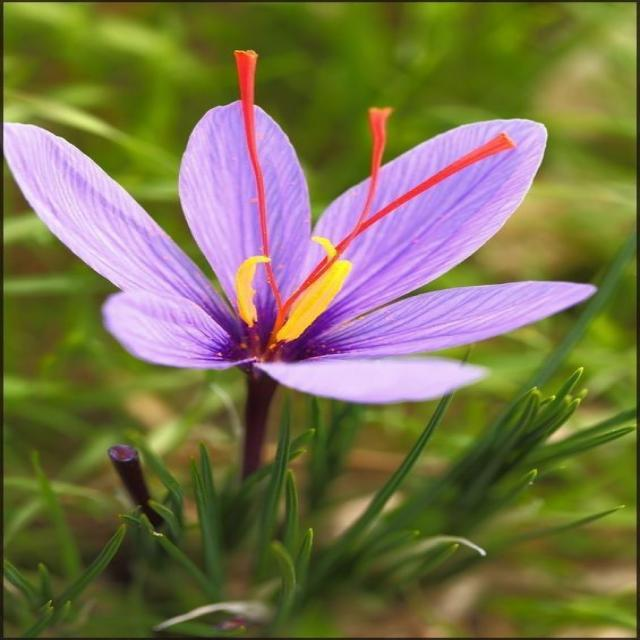Flower: (5, 52, 592, 474)
stigma: (278, 123, 501, 365), (228, 46, 272, 334), (362, 90, 387, 208)
